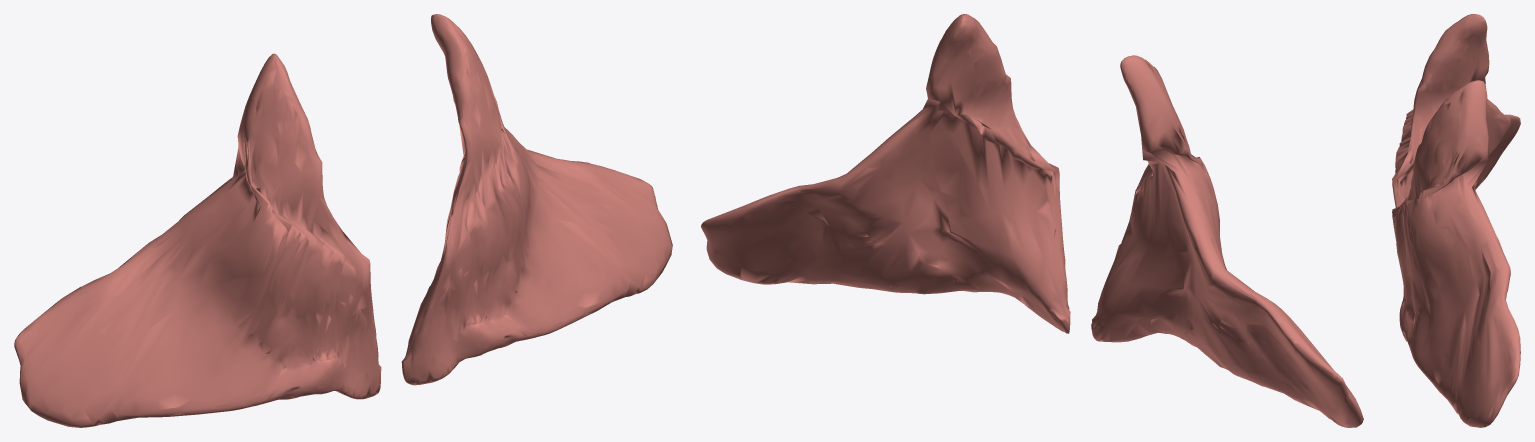
The model's file is depressor_septi_lod1.glb.
The picture shows the model from 3 angles, left to right: view 1: azimuth 30°, elevation 25°; view 2: azimuth 150°, elevation 25°; view 3: azimuth 270°, elevation 25°; orthographic projection. The views are drawn at different scales.
Parts seen in each view (by area): view 1: depressor_septi_R_lod1, depressor_septi_L_lod1; view 2: depressor_septi_L_lod1, depressor_septi_R_lod1; view 3: depressor_septi_L_lod1, depressor_septi_R_lod1.
Boxes of the visible parts, left/top/right/bottom form: depressor_septi_R_lod1: left=14, top=53, right=381, bottom=427; depressor_septi_L_lod1: left=401, top=14, right=672, bottom=385; depressor_septi_L_lod1: left=701, top=14, right=1070, bottom=333; depressor_septi_R_lod1: left=1091, top=55, right=1363, bottom=427; depressor_septi_L_lod1: left=1392, top=80, right=1520, bottom=427; depressor_septi_R_lod1: left=1392, top=14, right=1520, bottom=207.
Bounding box in the file's own units: 0.0325 × 0.0157 × 0.00679.
